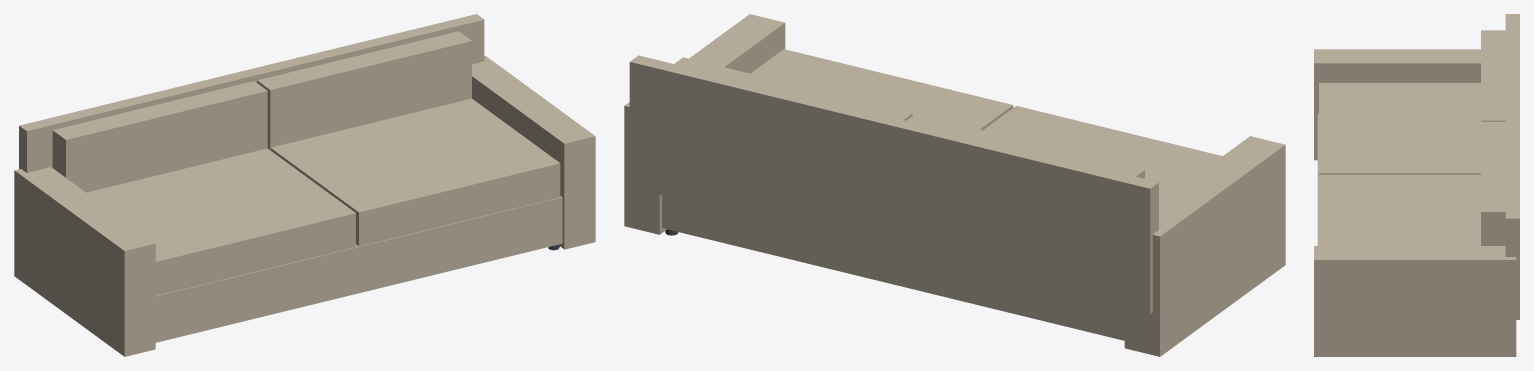
The model's file is sofa-3.glb.
3 renders of one model, left to right at view 1: azimuth 30°, elevation 25°; view 2: azimuth 150°, elevation 25°; view 3: azimuth 270°, elevation 25°, orthographic. The views are drawn at different scales.
Visible parts, largest first — view 1: sofa:3:editor; view 2: sofa:3:editor; view 3: sofa:3:editor.
Boxes of the visible parts, x1,y1,x2,y2 form: sofa:3:editor: [14, 14, 595, 356]; sofa:3:editor: [624, 14, 1285, 356]; sofa:3:editor: [1314, 14, 1519, 356].
Bounding box in the file's own units: 2.12 × 0.67 × 0.8751.
